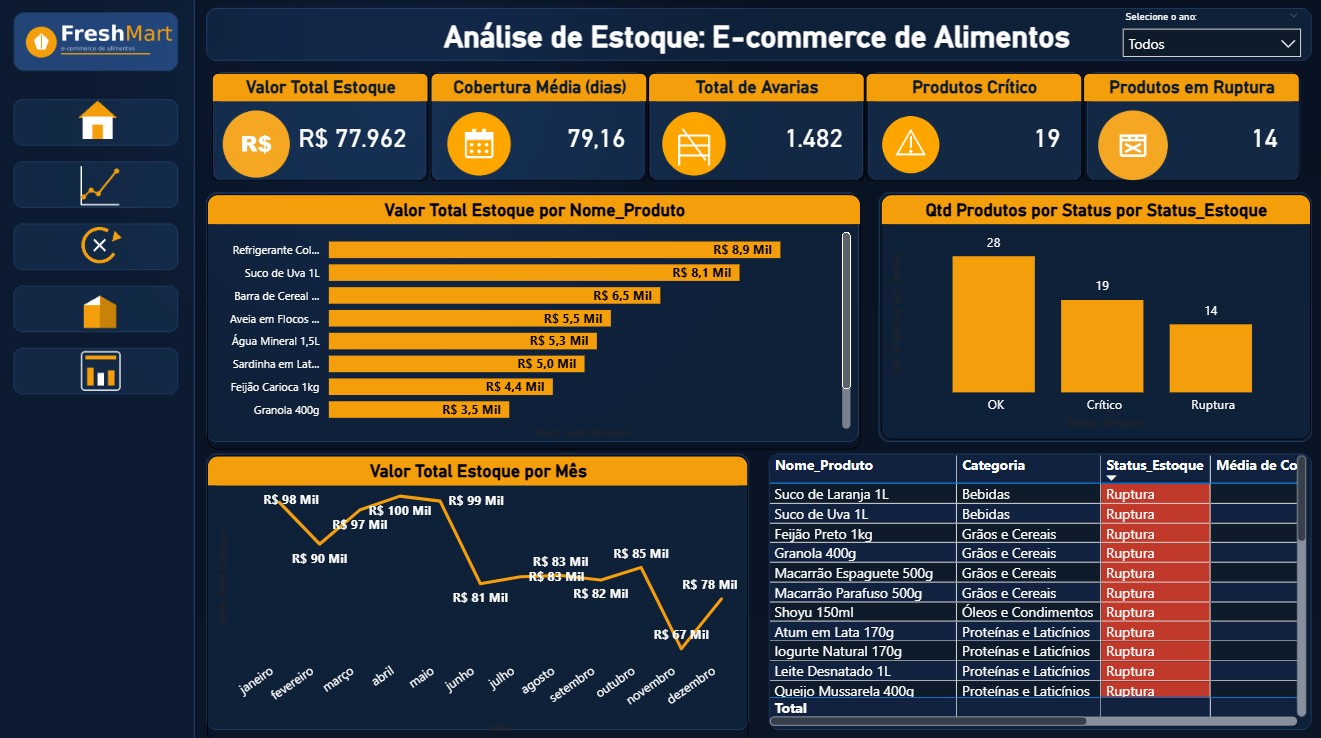

What the dashboard file says about the page in this screenshot:
{"tool":"powerbi","page":{"name":"Estoque","canvas":[1280,720],"ordinal":3},"visuals":[{"type":"cardVisual","title":"Valor Total Estoque","fields":{"Data":["_Medidas.Valor Total Estoque"]},"box":[207.5,72.5,208.8,103.8],"z":0},{"type":"cardVisual","title":"Cobertura Média (dias)","fields":{"Data":["_Medidas.Cobertura Media Dias"]},"box":[418.8,72.5,208.8,103.8],"z":1000},{"type":"cardVisual","title":"Total de Avarias","fields":{"Data":["_Medidas.Total Avarias"]},"box":[628.8,72.5,208.8,103.8],"z":2000},{"type":"cardVisual","title":"Produtos Crítico","fields":{"Data":["_Medidas.Produtos Criticos"]},"box":[838.8,72.5,208.8,103.8],"z":3000},{"type":"cardVisual","title":"Produtos em Ruptura","fields":{"Data":["_Medidas.Produtos em Ruptura"]},"box":[1048.8,72.5,208.8,103.8],"z":4000},{"type":"image","box":[18.8,1.2,155,82.5],"z":5000},{"type":"image","box":[27.5,92.5,138.8,48.8],"z":6000},{"type":"image","box":[22.5,155,152.5,52.5],"z":7000},{"type":"image","box":[66.2,197.5,65,81.2],"z":8000},{"type":"image","box":[71.2,278.8,56.2,46.2],"z":9000},{"type":"image","box":[75,332.5,50,53.8],"z":10000},{"type":"textbox","box":[386.1,15.7,694.9,53.1],"z":11000},{"type":"clusteredBarChart","fields":{"Y":["_Medidas.Valor Total Estoque"],"Category":["dProdutos.Nome_Produto"]},"box":[202.1,189.3,631.4,246.4],"z":12000},{"type":"columnChart","fields":{"Category":["fEstoque.Status_Estoque"],"Y":["_Medidas.Qtd Produtos por Status"]},"box":[852.9,189.3,415,236.4],"z":13000},{"type":"lineChart","fields":{"Y":["_Medidas.Valor Total Estoque"],"Category":["dCalendario.Data.Variation.Hierarquia de datas.Mês"]},"box":[202.5,441.2,522.5,278.8],"z":14000},{"type":"tableEx","fields":{"Values":["dProdutos.Nome_Produto","dProdutos.Categoria","fEstoque.Status_Estoque","Avg(fEstoque.Cobertura_Dias)","_Medidas.Estoque Final Atual","fEstoque.Ponto_Reposicao"]},"box":[740,436.7,529.2,270.8],"z":15000},{"type":"slicer","fields":{"Values":["dCalendario.Ano"]},"box":[1076.2,7.5,192.5,65],"z":16000},{"type":"image","box":[202.7,108.6,95.3,65.1],"z":17000},{"type":"image","box":[430.7,108.6,68.8,63.9],"z":18000},{"type":"image","box":[628.6,108.6,88.1,63.9],"z":19000},{"type":"image","box":[853,108.6,57.9,65.1],"z":20000},{"type":"image","box":[1060.5,108.6,72.4,67.6],"z":21000}]}

Visuals, with their boxes in screenshot pixels (x1, y1, x2, y2), scaled from the page's 1280x720 canvas onto the 1321x738 screenshot:
"Valor Total Estoque" cardVisual: (214, 74, 430, 181)
"Cobertura Média (dias)" cardVisual: (432, 74, 648, 181)
"Total de Avarias" cardVisual: (649, 74, 864, 181)
"Produtos Crítico" cardVisual: (866, 74, 1081, 181)
"Produtos em Ruptura" cardVisual: (1082, 74, 1298, 181)
image: (19, 1, 179, 86)
image: (28, 95, 172, 145)
image: (23, 159, 181, 213)
image: (68, 202, 135, 286)
image: (73, 286, 131, 333)
image: (77, 341, 129, 396)
textbox: (398, 16, 1116, 71)
clusteredBarChart - _Medidas.Valor Total Estoque x dProdutos.Nome_Produto: (209, 194, 860, 447)
columnChart - fEstoque.Status_Estoque x _Medidas.Qtd Produtos por Status: (880, 194, 1309, 436)
lineChart - _Medidas.Valor Total Estoque x dCalendario.Data.Variation.Hierarquia de datas.Mês: (209, 452, 748, 737)
tableEx - dProdutos.Nome_Produto x dProdutos.Categoria: (764, 448, 1310, 725)
slicer - dCalendario.Ano: (1111, 8, 1309, 74)
image: (209, 111, 308, 178)
image: (444, 111, 515, 177)
image: (649, 111, 740, 177)
image: (880, 111, 940, 178)
image: (1094, 111, 1169, 181)
